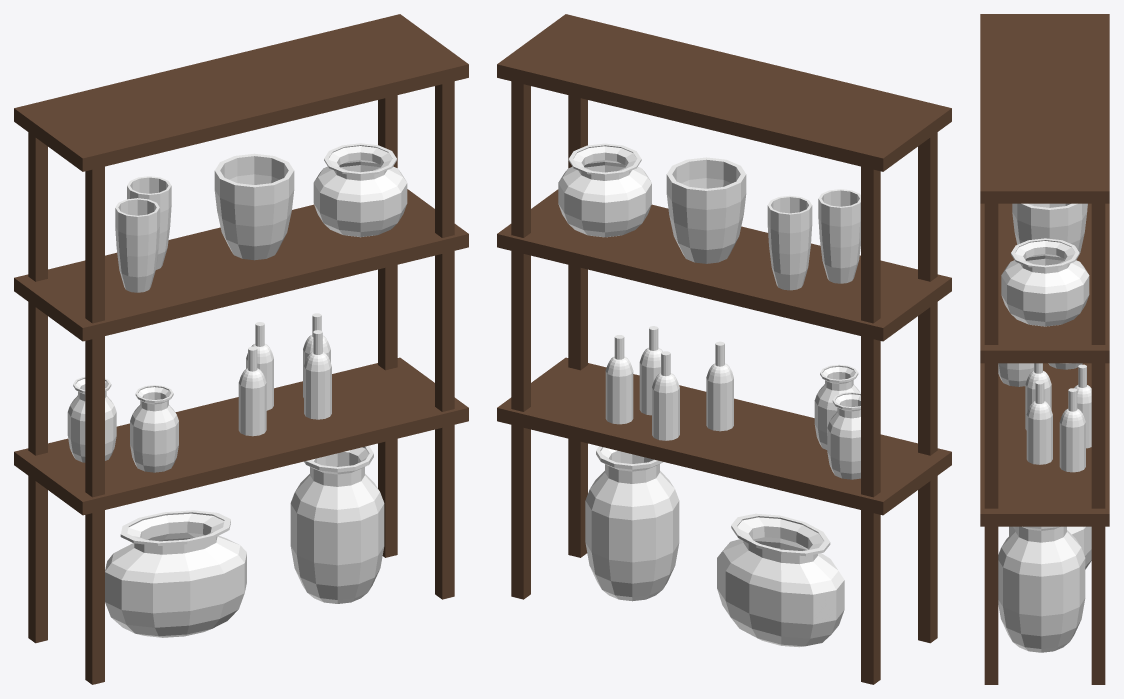
File: Shelf.fbx
3 renders of one model, left to right at view 1: azimuth 30°, elevation 25°; view 2: azimuth 150°, elevation 25°; view 3: azimuth 270°, elevation 25°, orthographic. The views are drawn at different scales.
Visible parts, largest first — view 1: Shelf.002; view 2: Shelf.002; view 3: Shelf.002.
Boxes of the visible parts, bbox=[...] form: Shelf.002: bbox=[14, 14, 468, 684]; Shelf.002: bbox=[497, 14, 951, 684]; Shelf.002: bbox=[980, 14, 1109, 684].
Bounding box in the file's own units: 158 × 208 × 48.75.
